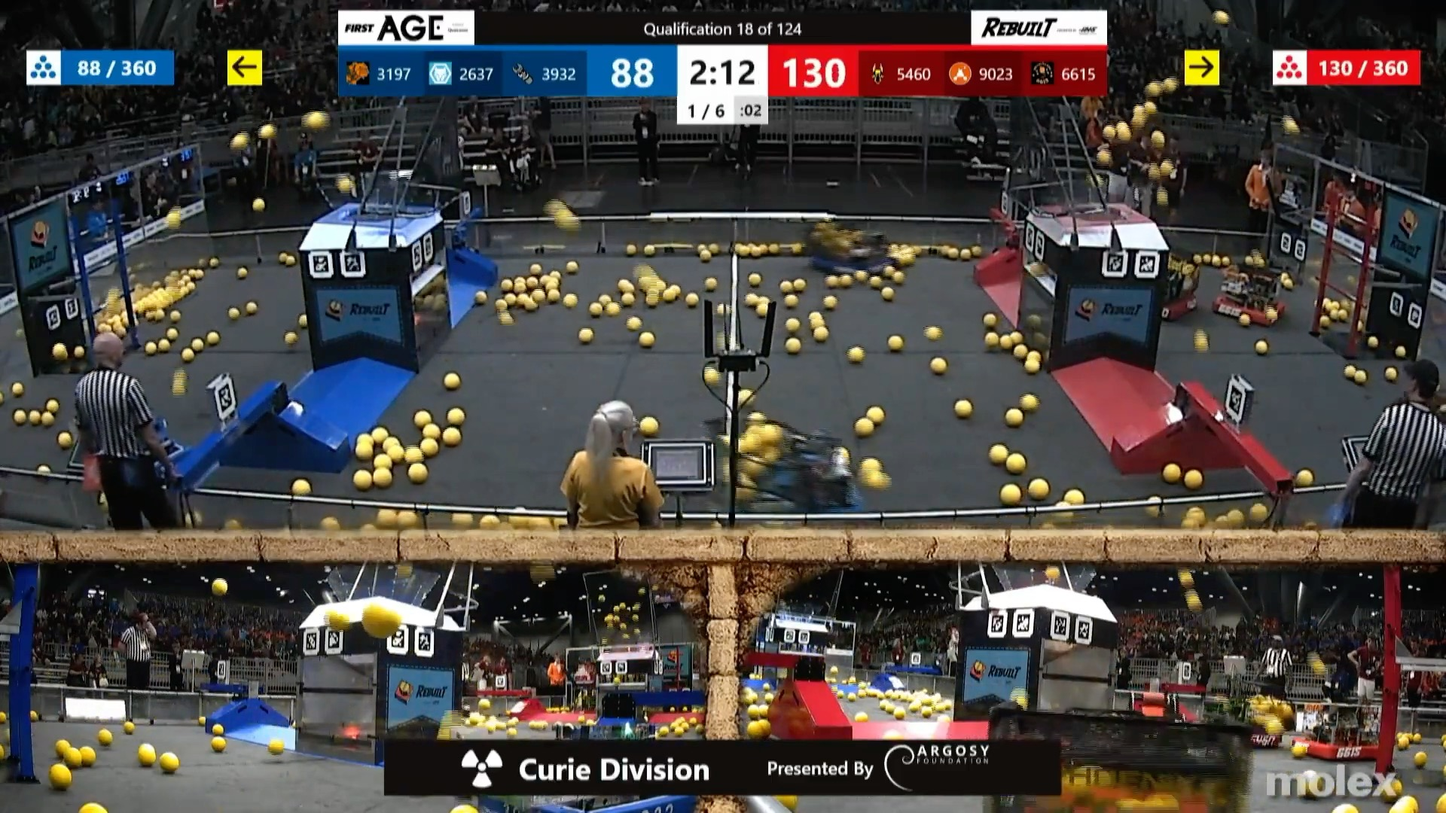bumpers: (722, 457, 872, 515), (1284, 725, 1390, 768), (1197, 284, 1295, 330), (803, 251, 901, 282), (1161, 297, 1207, 328)
